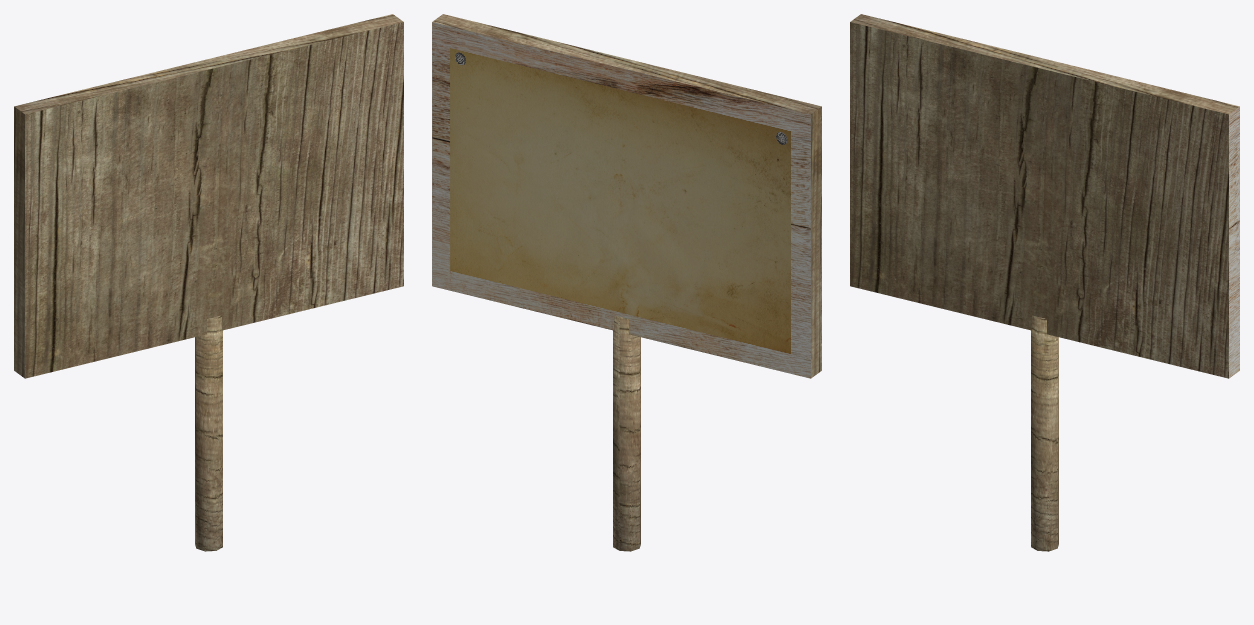
File: sign.FBX
3 renders of one model, left to right at view 1: azimuth 30°, elevation 25°; view 2: azimuth 150°, elevation 25°; view 3: azimuth 330°, elevation 25°, orthographic.
Visible parts, largest first — view 1: Pole; view 2: Pole; view 3: Pole.
Boxes of the visible parts, x1,y1,x2,y2 form: Pole: [14, 14, 403, 551]; Pole: [432, 14, 821, 551]; Pole: [850, 14, 1239, 551].
Bounding box in the file's own units: 60 × 82.68 × 4.
Materials: 2 (2 with a texture image).
